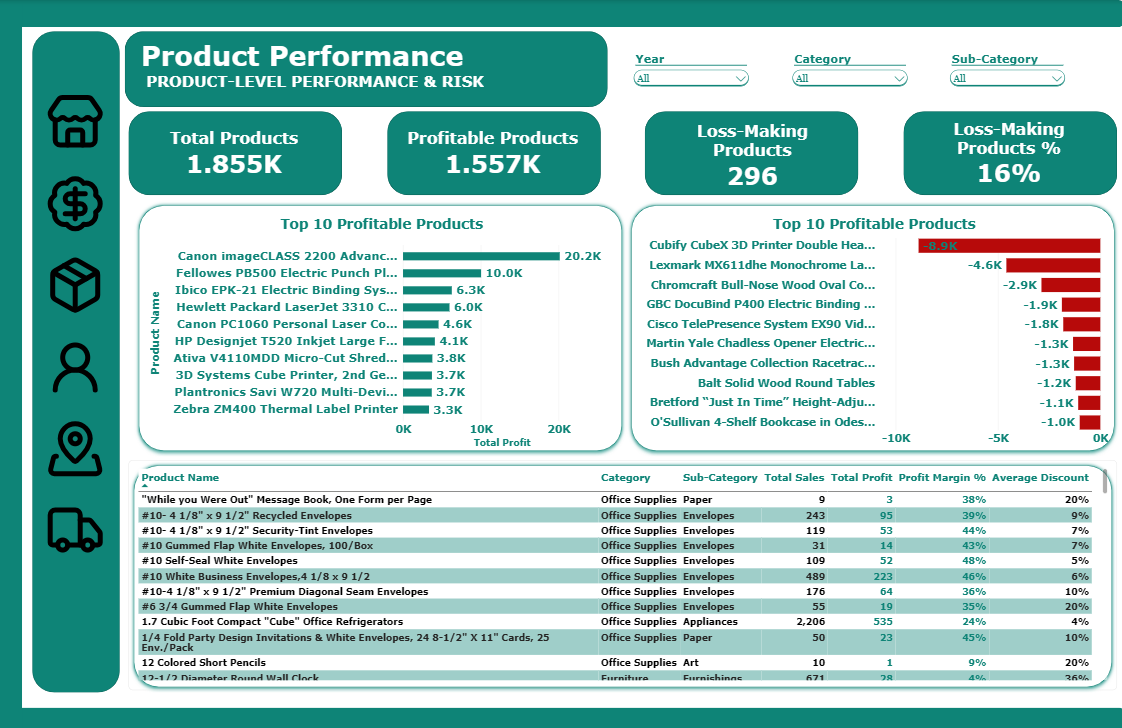

What the dashboard file says about the page in this screenshot:
{"tool":"powerbi","page":{"name":"03 Product Performance","canvas":[2000,1300],"ordinal":2},"visuals":[{"type":"shape","box":[0,0,1999.7,48.2],"z":0},{"type":"shape","box":[228.4,55.6,855.8,134.4],"z":0,"group":"g6"},{"type":"group","id":"g1","title":"Group 2","box":[234.8,197.2,378.7,148.7],"z":0,"group":"g5"},{"type":"textbox","box":[257.5,68.1,763,106],"z":1000,"group":"g6"},{"type":"group","id":"g2","title":"Group 3","box":[692.7,197.2,378.7,148.7],"z":1000,"group":"g5"},{"type":"shape","box":[0,1253.9,2000.5,46.5],"z":1000},{"type":"shape","box":[0,0,46.5,1300.5],"z":2000},{"type":"group","id":"g3","title":"Group 4","box":[1150.6,197.2,378.7,150.6],"z":2000,"group":"g5"},{"type":"shape","box":[234.8,197.2,378.7,148.7],"z":3000,"group":"g1"},{"type":"group","id":"g4","title":"Group 5","box":[1608.5,197.2,378.7,148.7],"z":3000,"group":"g5"},{"type":"card","fields":{"Values":["Page1 Measures.Total Profit"]},"box":[704.9,246.6,289,121.5],"z":3000},{"type":"shape","box":[64.2,55.4,155.1,1172],"z":4000},{"type":"shape","box":[234.8,815.3,1752.4,412.1],"z":5000},{"type":"shape","box":[242.9,354.5,875.1,454.2],"z":6000},{"type":"shape","box":[1608.5,197.2,378.7,148.7],"z":7000,"group":"g4"},{"type":"shape","box":[1116.6,354.5,875.1,454.2],"z":7000},{"type":"group","id":"g5","title":"Group 6","box":[234.8,197.2,1752.4,150.6],"z":8000},{"type":"shape","box":[1150.6,197.2,378.7,148.7],"z":8000,"group":"g3"},{"type":"group","id":"g6","title":"Group 1","box":[228.4,55.6,855.8,134.4],"z":9000},{"type":"shape","box":[692.7,197.2,378.7,148.7],"z":9000,"group":"g2"},{"type":"slicer","fields":{"Values":["Sales.Ship Date.Variation.Date Hierarchy.Year"]},"box":[1124.6,90.9,213.9,71.9],"z":10000},{"type":"slicer","fields":{"Values":["Sales.Category"]},"box":[1687,90.9,213.9,71.9],"z":11000},{"type":"cardVisual","fields":{"Data":["Page3 Measures.Loss-Making Products %"]},"box":[1649.1,205.4,294.9,132.9],"z":11000,"group":"g4"},{"type":"cardVisual","fields":{"Data":["Page3 Measures.Total Products"]},"box":[275.4,205.4,294.9,132.9],"z":11001,"group":"g1"},{"type":"cardVisual","fields":{"Data":["Page3 Measures.Profitable Products"]},"box":[700.5,205.4,356.5,132.7],"z":11002,"group":"g2"},{"type":"cardVisual","fields":{"Data":["Page3 Measures.Loss-Making Products"]},"box":[1157.1,203.5,368.8,144.4],"z":11003,"group":"g3"},{"type":"slicer","fields":{"Values":["Sales.Region"]},"box":[1405.8,90.9,213.9,71.9],"z":12000},{"type":"clusteredBarChart","title":"Top 10 Profitable Products","fields":{"Category":["Sales.Product Name"],"Y":["Page1 Measures.Total Profit"]},"box":[257,367.8,852.9,440.9],"z":13000},{"type":"clusteredBarChart","title":"Top 10 Profitable Products","fields":{"Category":["Sales.Product Name"],"Y":["Page1 Measures.Total Profit"]},"box":[1125.4,367.8,861.8,440.9],"z":14000},{"type":"tableEx","title":"Product Details Table","fields":{"Values":["Sales.Product Name","Sales.Category","Sales.Sub-Category","Page1 Measures.Total Sales","Page1 Measures.Total Profit","Page1 Measures.Profit Margin %","Page2 Measures.Average Discount"]},"box":[234.8,815.3,1752.4,407.6],"z":15000},{"type":"group","id":"g7","title":"Group 7","box":[86.4,163.9,108.6,828.6],"z":15001},{"type":"image","box":[86.4,163.9,108.6,106.2],"z":17000,"group":"g7"},{"type":"image","box":[86.4,308.4,108.6,106.2],"z":18000,"group":"g7"},{"type":"image","box":[86.4,452.8,108.6,106.2],"z":19000,"group":"g7"},{"type":"image","box":[86.4,597.3,108.6,106.2],"z":20000,"group":"g7"},{"type":"image","box":[86.4,741.8,108.6,106.2],"z":21000,"group":"g7"},{"type":"image","box":[86.4,886.2,108.6,106.2],"z":22000,"group":"g7"}]}

Visuals, with their boxes in screenshot pixels (x1, y1, x2, y2), scaled from the page's 2000x1300 canvas onto the 1122x728 screenshot:
shape: pyautogui.locateOnScreen(0, 0, 1121, 27)
shape: pyautogui.locateOnScreen(128, 31, 608, 106)
"Group 2" group: pyautogui.locateOnScreen(132, 110, 344, 194)
textbox: pyautogui.locateOnScreen(144, 38, 573, 97)
"Group 3" group: pyautogui.locateOnScreen(389, 110, 601, 194)
shape: pyautogui.locateOnScreen(0, 702, 1121, 727)
shape: pyautogui.locateOnScreen(0, 0, 26, 727)
"Group 4" group: pyautogui.locateOnScreen(645, 110, 858, 195)
shape: pyautogui.locateOnScreen(132, 110, 344, 194)
"Group 5" group: pyautogui.locateOnScreen(902, 110, 1115, 194)
card - Page1 Measures.Total Profit: pyautogui.locateOnScreen(395, 138, 558, 206)
shape: pyautogui.locateOnScreen(36, 31, 123, 687)
shape: pyautogui.locateOnScreen(132, 457, 1115, 687)
shape: pyautogui.locateOnScreen(136, 199, 627, 453)
shape: pyautogui.locateOnScreen(902, 110, 1115, 194)
shape: pyautogui.locateOnScreen(626, 199, 1117, 453)
"Group 6" group: pyautogui.locateOnScreen(132, 110, 1115, 195)
shape: pyautogui.locateOnScreen(645, 110, 858, 194)
"Group 1" group: pyautogui.locateOnScreen(128, 31, 608, 106)
shape: pyautogui.locateOnScreen(389, 110, 601, 194)
slicer - Sales.Ship Date.Variation.Date Hierarchy.Year: pyautogui.locateOnScreen(631, 51, 751, 91)
slicer - Sales.Category: pyautogui.locateOnScreen(946, 51, 1066, 91)
cardVisual - Page3 Measures.Loss-Making Products %: pyautogui.locateOnScreen(925, 115, 1091, 189)
cardVisual - Page3 Measures.Total Products: pyautogui.locateOnScreen(154, 115, 320, 189)
cardVisual - Page3 Measures.Profitable Products: pyautogui.locateOnScreen(393, 115, 593, 189)
cardVisual - Page3 Measures.Loss-Making Products: pyautogui.locateOnScreen(649, 114, 856, 195)
slicer - Sales.Region: pyautogui.locateOnScreen(789, 51, 909, 91)
"Top 10 Profitable Products" clusteredBarChart: pyautogui.locateOnScreen(144, 206, 623, 453)
"Top 10 Profitable Products" clusteredBarChart: pyautogui.locateOnScreen(631, 206, 1115, 453)
"Product Details Table" tableEx: pyautogui.locateOnScreen(132, 457, 1115, 685)
"Group 7" group: pyautogui.locateOnScreen(48, 92, 109, 556)
image: pyautogui.locateOnScreen(48, 92, 109, 151)
image: pyautogui.locateOnScreen(48, 173, 109, 232)
image: pyautogui.locateOnScreen(48, 254, 109, 313)
image: pyautogui.locateOnScreen(48, 334, 109, 394)
image: pyautogui.locateOnScreen(48, 415, 109, 475)
image: pyautogui.locateOnScreen(48, 496, 109, 556)
